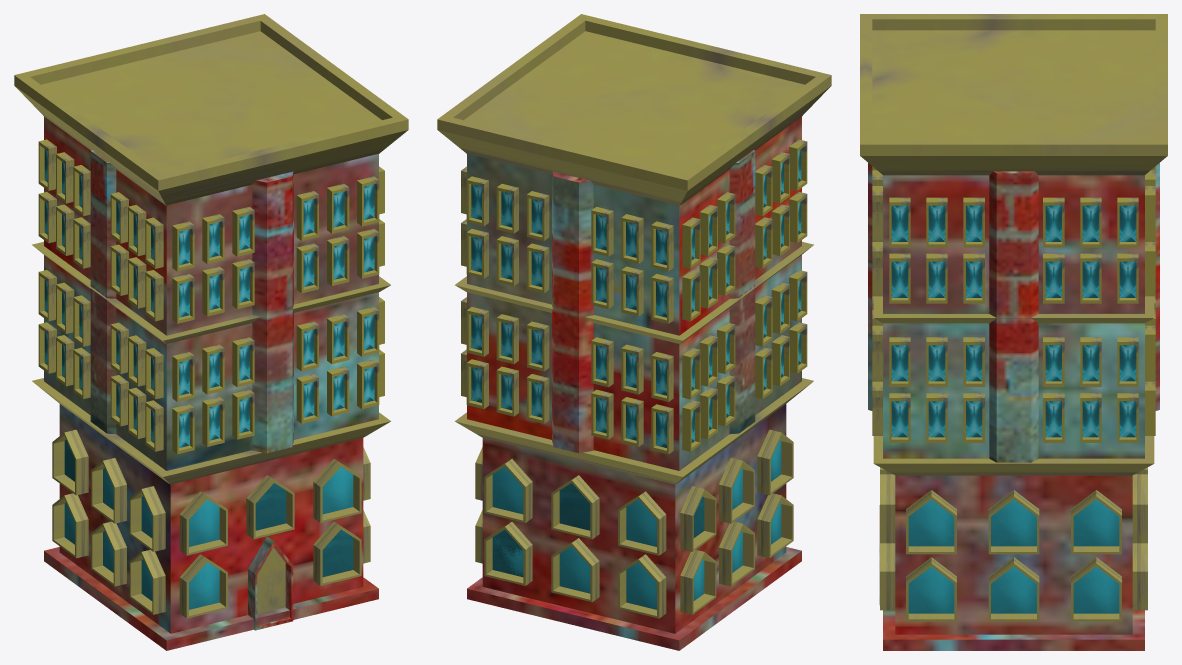
Rendered from nybuilding1.fbx.
The picture shows the model from 3 angles, left to right: view 1: azimuth 30°, elevation 25°; view 2: azimuth 150°, elevation 25°; view 3: azimuth 270°, elevation 25°; orthographic projection. The views are drawn at different scales.
Parts seen in each view (by area): view 1: pCylinder20; view 2: pCylinder20; view 3: pCylinder20.
Part boxes in pixels (box(x1,y1,x2,y2)): pCylinder20: box(14, 14, 408, 650); pCylinder20: box(437, 14, 831, 650); pCylinder20: box(860, 14, 1167, 650).
Size of the model in its own units: 25.02 by 46.08 by 24.91.
